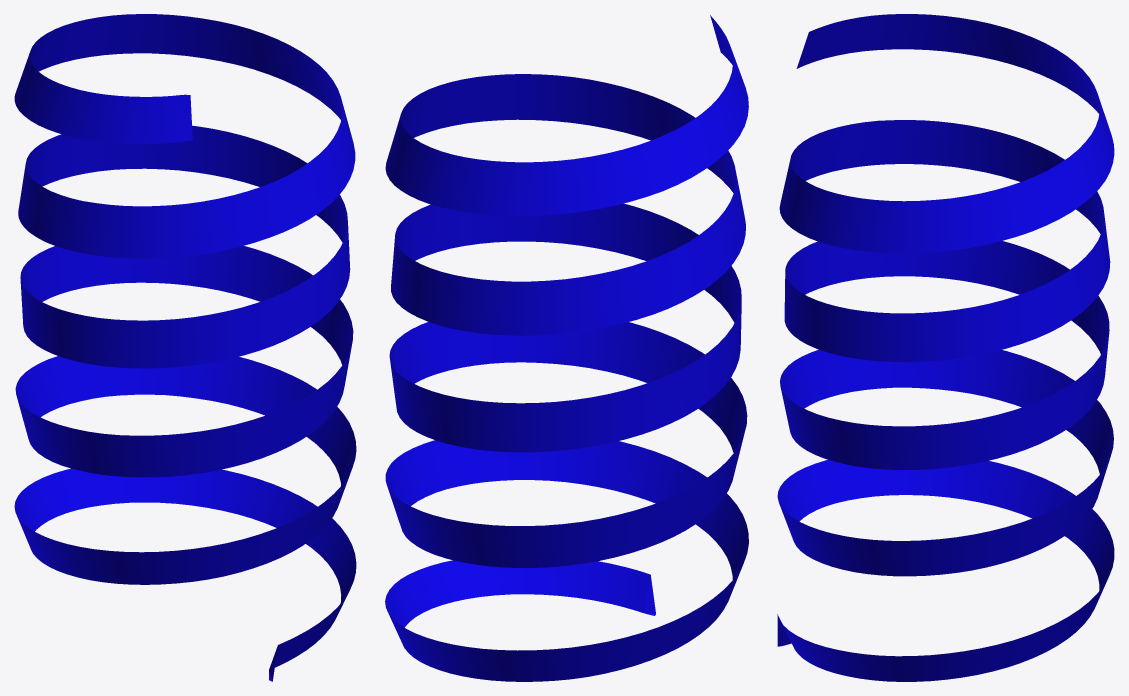
The model's file is espiral2.gltf.
3 views of the same model, side by side, from view 1: azimuth 30°, elevation 25°; view 2: azimuth 150°, elevation 25°; view 3: azimuth 270°, elevation 25° (orthographic). The views are drawn at different scales.
Parts seen in each view (by area): view 1: Mesh_0; view 2: Mesh_0; view 3: Mesh_0.
Boxes of the visible parts, x1,y1,x2,y2 form: Mesh_0: (14,14,356,681); Mesh_0: (385,15,748,681); Mesh_0: (777,14,1114,681).
Size of the model in its own units: 46.2 by 88.19 by 46.2.
